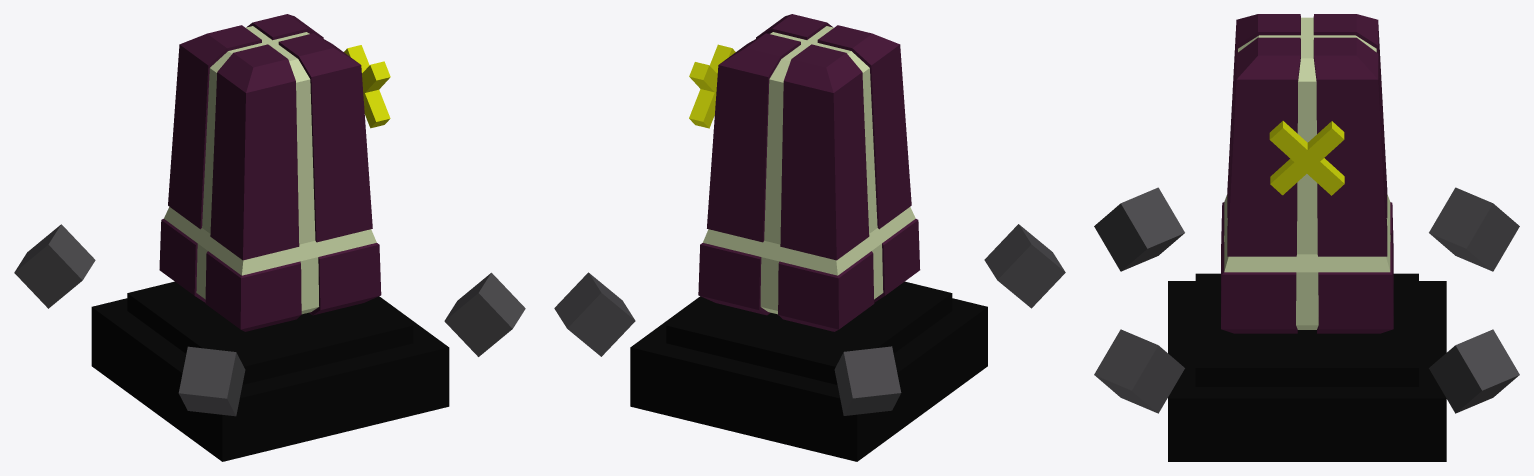
File: EnemyWatchingDad.fbx
3 renders of one model, left to right at view 1: azimuth 30°, elevation 25°; view 2: azimuth 150°, elevation 25°; view 3: azimuth 270°, elevation 25°, orthographic. The views are drawn at different scales.
Visible parts, largest first — view 1: Cube, Dad Base, Cube.003, Cube.001; view 2: Cube, Dad Base, Cube.003, Cube.001; view 3: Cube, Dad Base, Cube.003, Cube.001.
Boxes of the visible parts, <box> form: Cube: <box>159,14,381,331</box>; Dad Base: <box>91,281,449,461</box>; Cube.003: <box>14,224,525,416</box>; Cube.001: <box>344,45,390,128</box>; Cube: <box>698,14,920,331</box>; Dad Base: <box>630,281,987,461</box>; Cube.003: <box>554,224,1065,415</box>; Cube.001: <box>689,44,735,128</box>; Cube: <box>1221,14,1393,333</box>; Dad Base: <box>1168,273,1446,461</box>; Cube.003: <box>1094,187,1519,413</box>; Cube.001: <box>1269,121,1344,195</box>.
Size of the model in its own units: 612 by 583 by 611.
